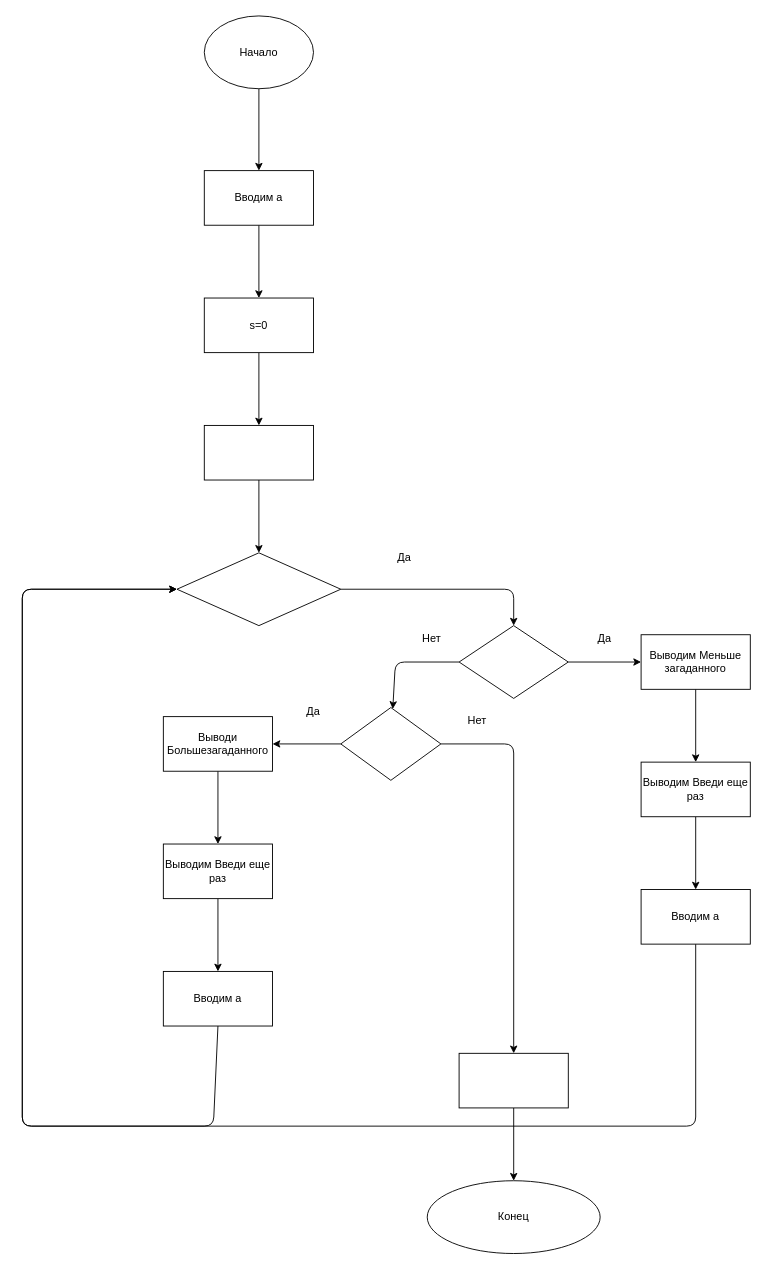
The diagram is 766 pixels wide and 1269 high, and some of its shapes have lost their labels. The shapes that lost their labels are listed below. From the top down, each one's centre as x and y in pixels, then its label:
At (258,452): "r=случайное число от 1 до 100".
At (258,589): "s==0?".
At (513,661): "a<r?".
At (390,743): "a>r".
At (513,1080): "Выводим Угадал".
